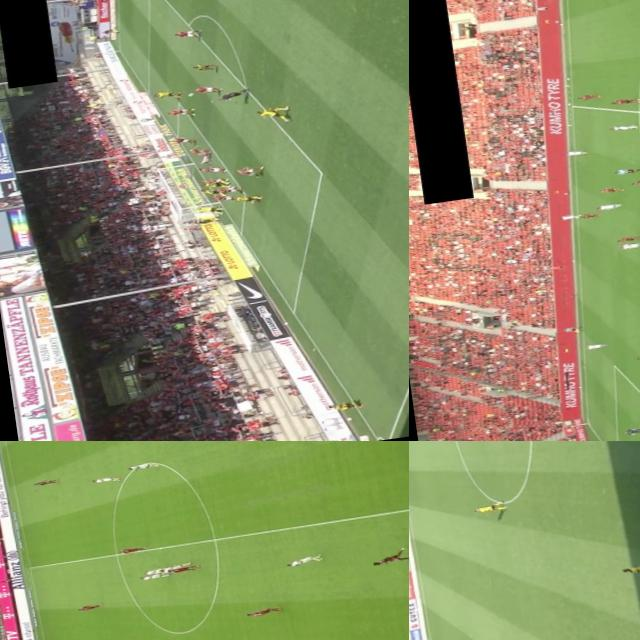ball: (184, 92, 195, 99)
player: (365, 544, 409, 567), (320, 396, 364, 418), (282, 552, 324, 570), (468, 500, 508, 516), (617, 551, 640, 577), (250, 105, 288, 120), (126, 459, 164, 474), (164, 562, 202, 576), (234, 162, 266, 178), (230, 192, 264, 207), (244, 606, 284, 618), (186, 144, 214, 158), (142, 565, 172, 578), (158, 560, 188, 573), (136, 571, 168, 583), (193, 202, 224, 214), (74, 602, 104, 614), (118, 545, 150, 556), (88, 476, 123, 486), (198, 176, 227, 188), (166, 107, 194, 119), (192, 84, 222, 95), (212, 185, 244, 195), (610, 96, 640, 106), (32, 477, 59, 488), (190, 62, 219, 72), (198, 150, 214, 168), (208, 193, 236, 203), (196, 165, 224, 175), (594, 202, 622, 212), (200, 179, 227, 189), (168, 136, 195, 146), (172, 29, 199, 39), (613, 235, 640, 245), (619, 241, 640, 253), (606, 125, 634, 134), (576, 212, 601, 222), (563, 148, 588, 158), (198, 188, 226, 196), (596, 187, 624, 195), (152, 92, 178, 100), (576, 94, 602, 102), (621, 426, 640, 436), (558, 214, 580, 222), (584, 343, 606, 350), (628, 177, 640, 187)
